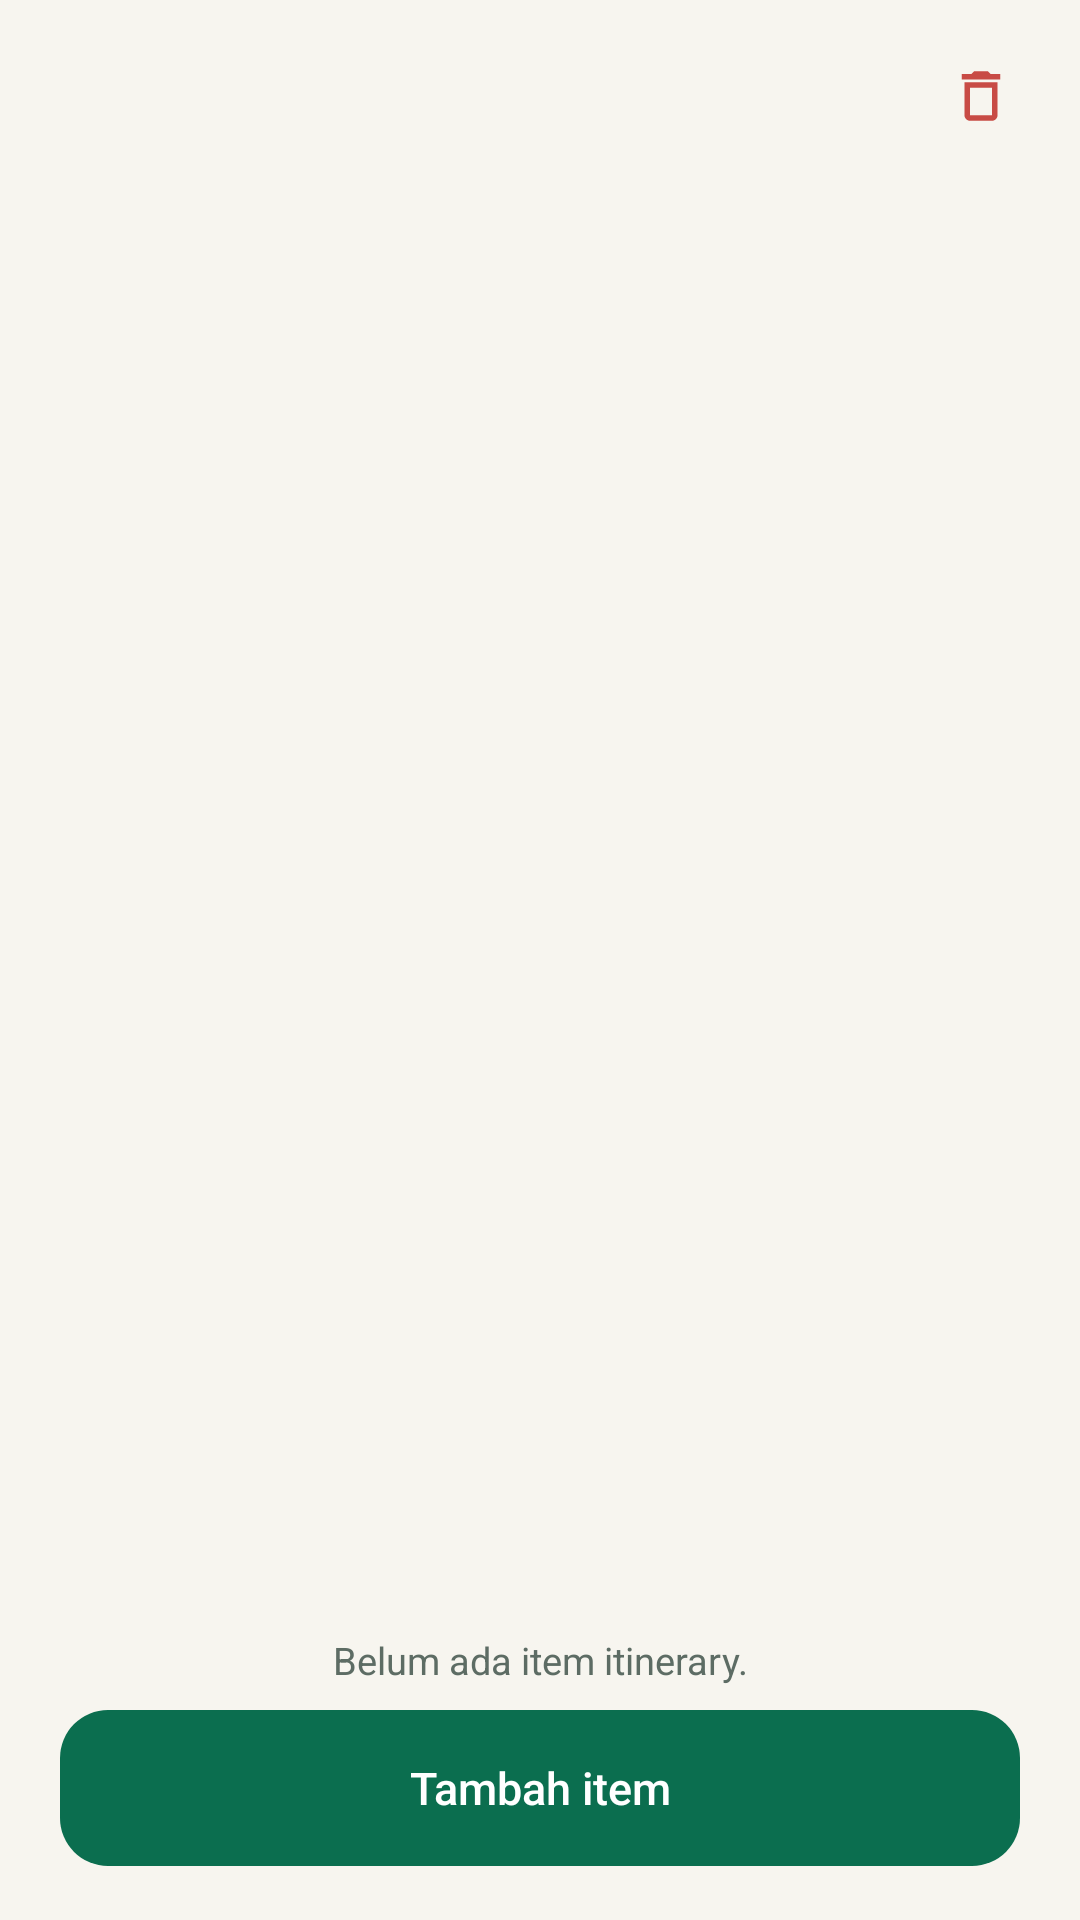

Where icons sit on this 1080w x 1920h app screen, as (x1, y1, x2, y2):
Hapus: (961, 71, 1001, 121)
